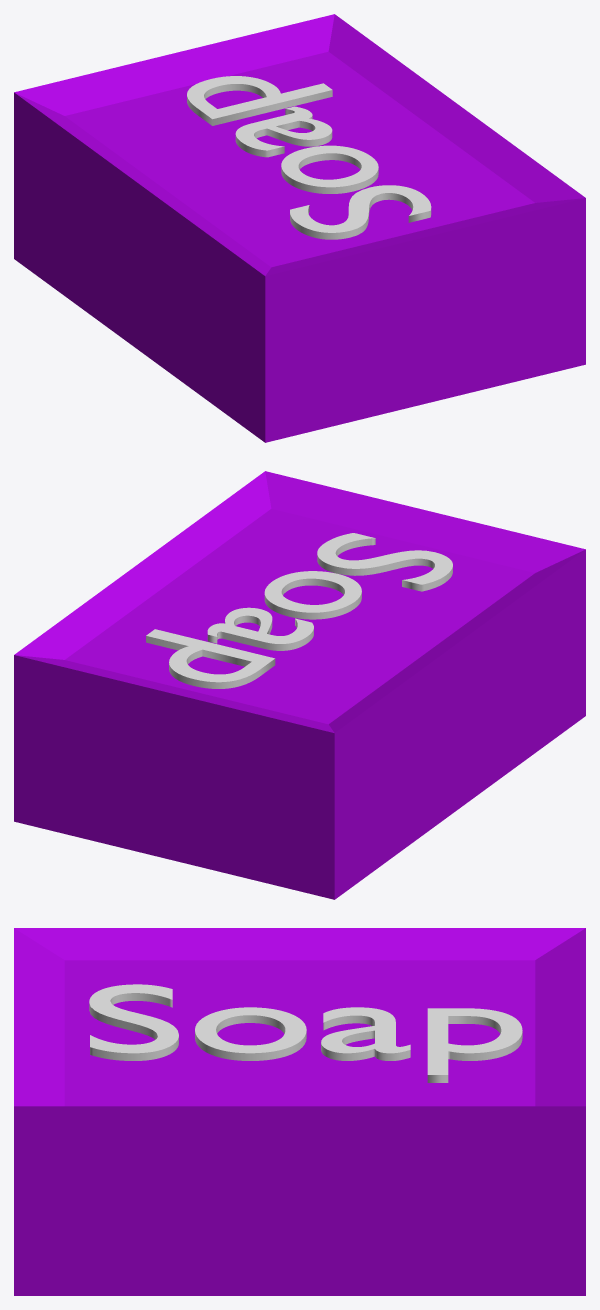
The model's file is Soap.fbx.
The picture shows the model from 3 angles, top to bottom: view 1: azimuth 30°, elevation 25°; view 2: azimuth 150°, elevation 25°; view 3: azimuth 270°, elevation 25°; orthographic projection. The views are drawn at different scales.
Visible parts, largest first — view 1: Cube, Text; view 2: Cube, Text; view 3: Cube, Text.
Part boxes in pixels (bbox=[...]): Cube: bbox=[14, 14, 585, 442]; Text: bbox=[187, 76, 431, 239]; Cube: bbox=[14, 471, 585, 899]; Text: bbox=[146, 533, 452, 688]; Cube: bbox=[14, 928, 585, 1295]; Text: bbox=[89, 984, 522, 1082].
Bounding box in the file's own units: 147 × 73.18 × 200.
